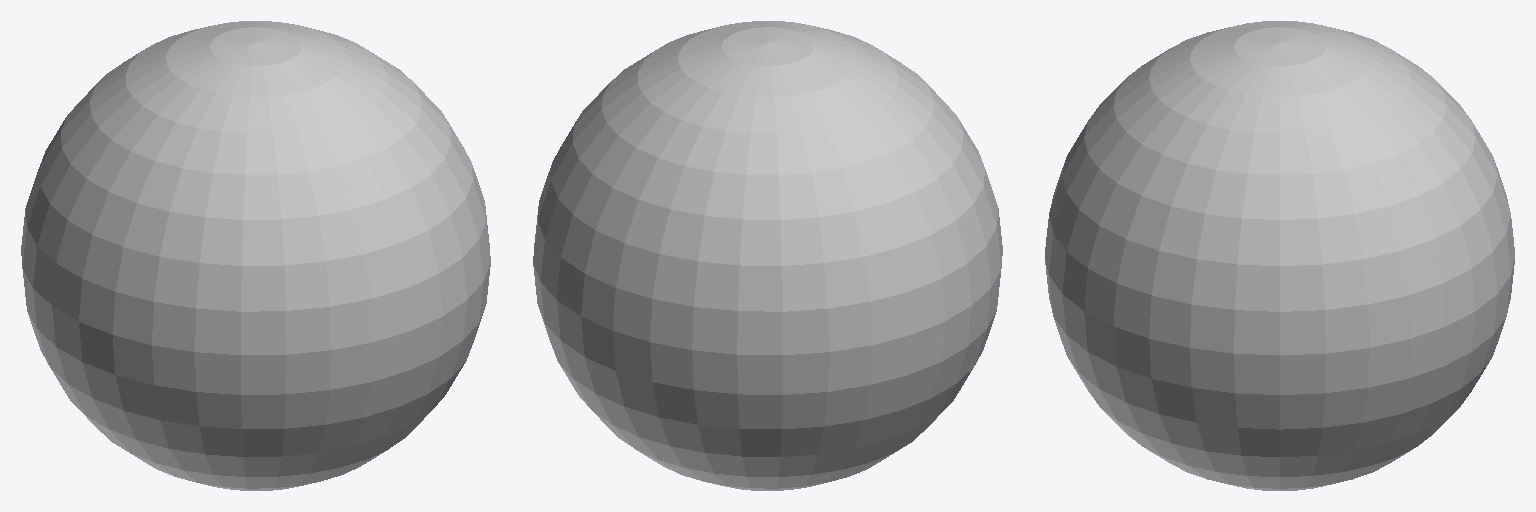
The model's file is AtomicCatalystMain.obj.
3 views of the same model, side by side, from view 1: azimuth 30°, elevation 25°; view 2: azimuth 150°, elevation 25°; view 3: azimuth 270°, elevation 25° (orthographic).
Visible parts, largest first — view 1: Nucleus_Main; view 2: Nucleus_Main; view 3: Nucleus_Main.
Boxes of the visible parts, box(x1,y1,x2,y2) form: Nucleus_Main: box(21, 21, 490, 490); Nucleus_Main: box(533, 21, 1002, 490); Nucleus_Main: box(1045, 21, 1514, 490).
Size of the model in its own units: 0.2 by 0.2 by 0.2.